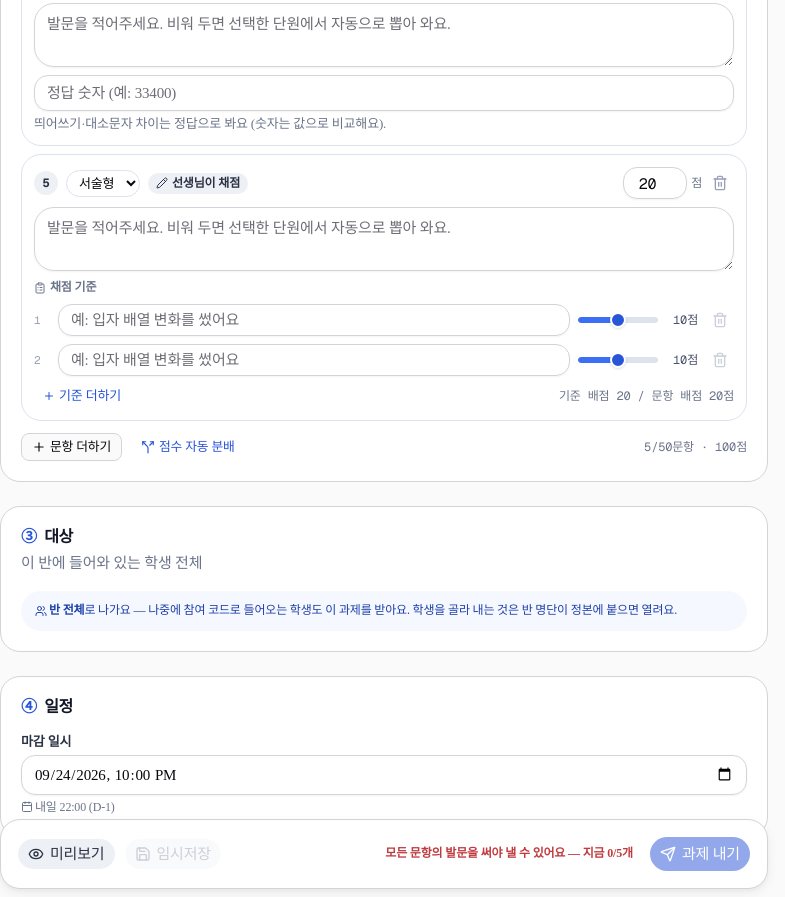
문항 더하기·점수 자동 분배로 다시 100점을 맞출 수 있다
(page scrolled)
Click the button with test id "question-add": [72, 447] box [21,433,122,461]
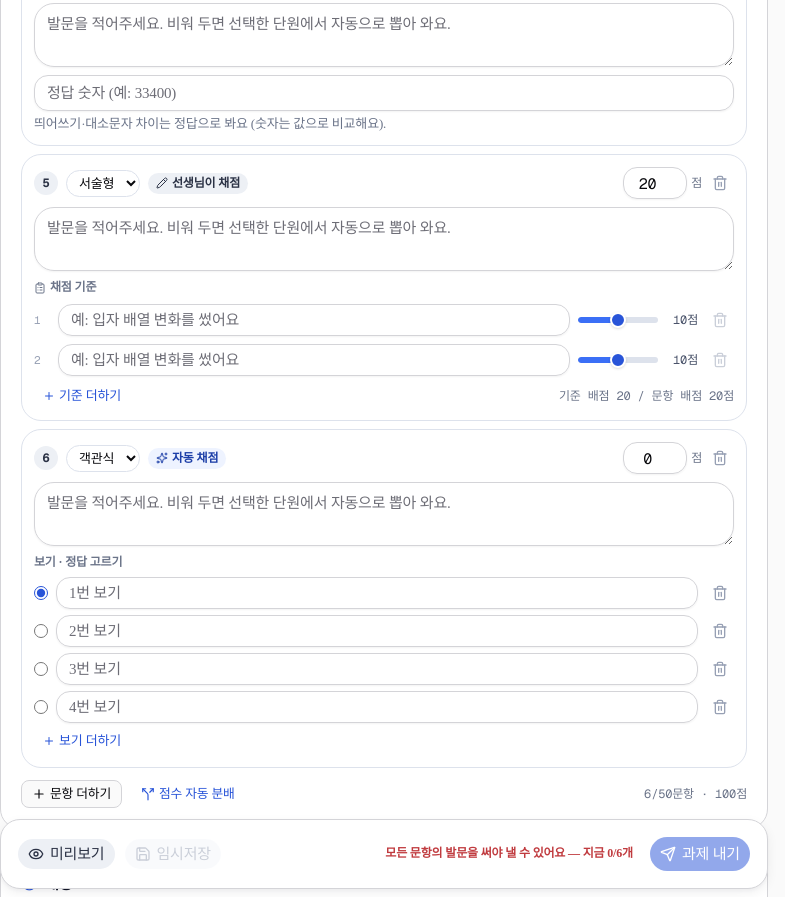
Expected: the button with test id "dispatch-btn" is disabled, [649,836,751,872]
Click the button with test id "question-even-split": [188, 794] box [130,780,246,808]
(page scrolled)
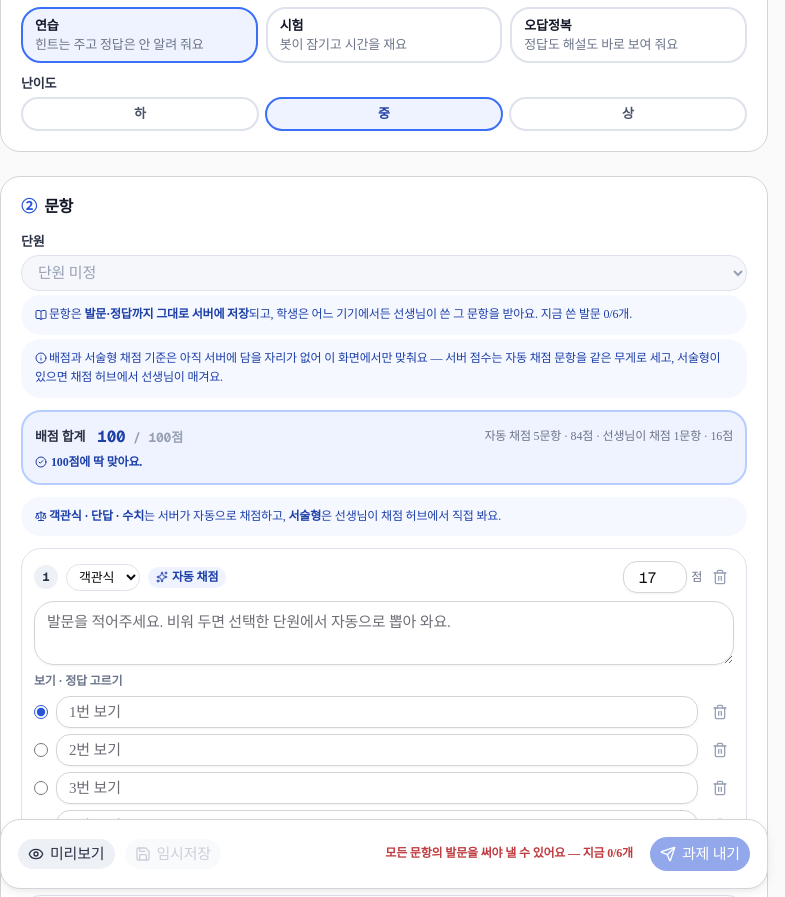
Expected: the element with test id "points-tally" shows "100 / 100점", [21,410,747,485]
